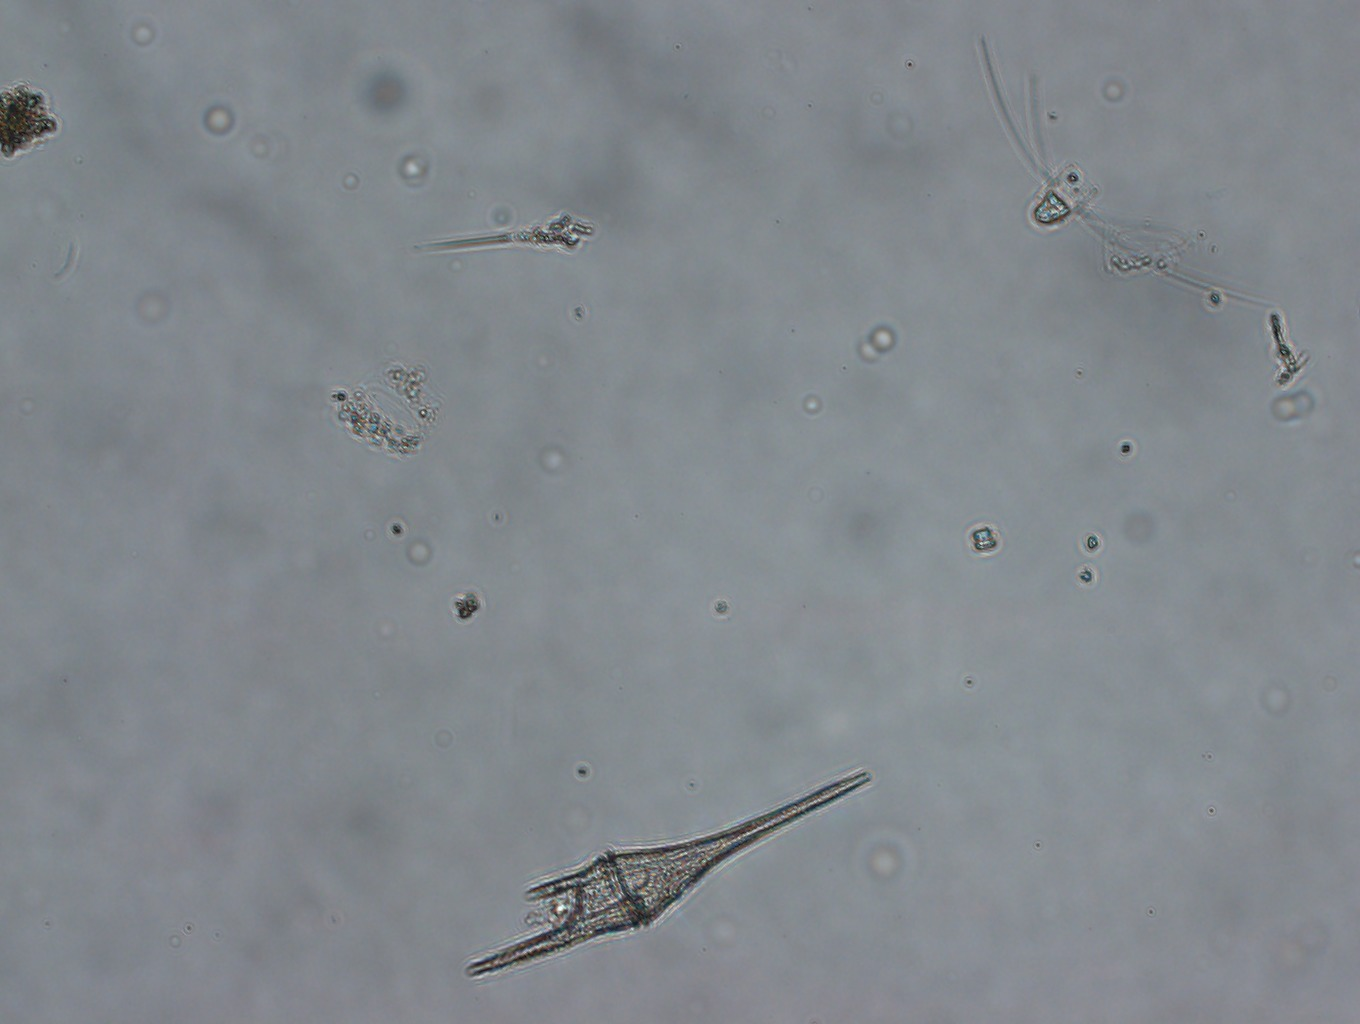ceratium furca: (460, 765, 875, 980)
chaetoceros: (974, 33, 1275, 308)
